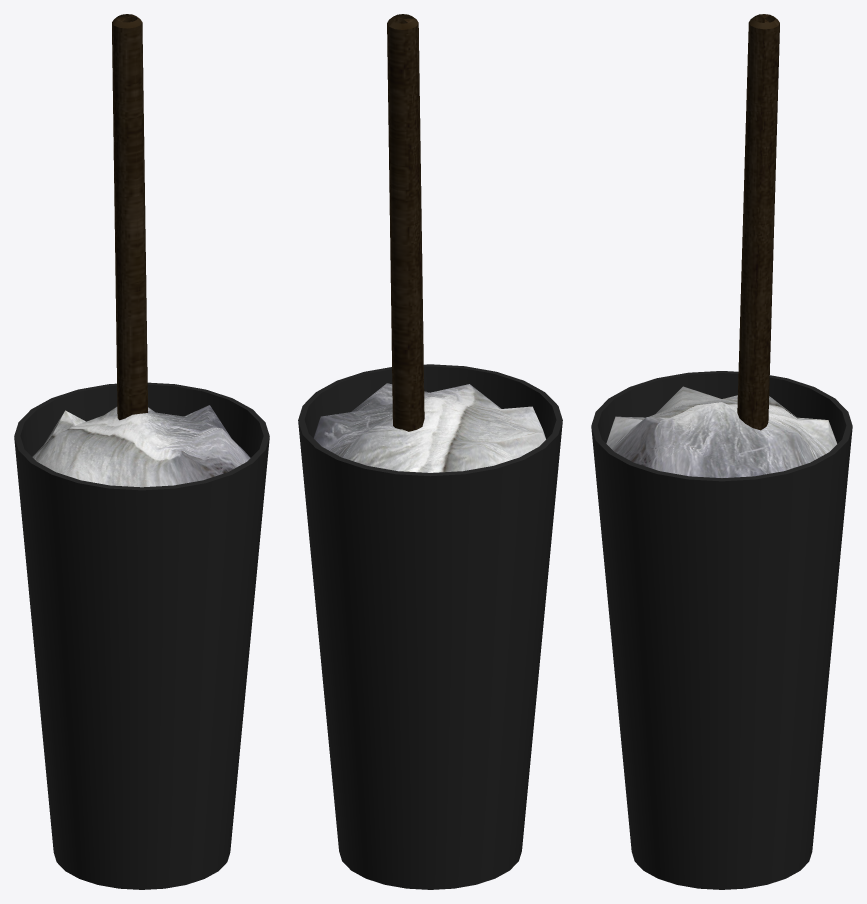
Rendered from SM_Mop_1.fbx.
3 views of the same model, side by side, from view 1: azimuth 30°, elevation 25°; view 2: azimuth 150°, elevation 25°; view 3: azimuth 270°, elevation 25° (orthographic). The views are drawn at different scales.
Visible parts, largest first — view 1: SM_Mop_1; view 2: SM_Mop_1; view 3: SM_Mop_1.
Part boxes in pixels (x1,y1,x2,y2): SM_Mop_1: (14, 14, 269, 889); SM_Mop_1: (298, 14, 562, 889); SM_Mop_1: (591, 14, 852, 889).
Bounding box in the file's own units: 0.085 × 0.3 × 0.085.
Materials: 3 (3 with a texture image).
